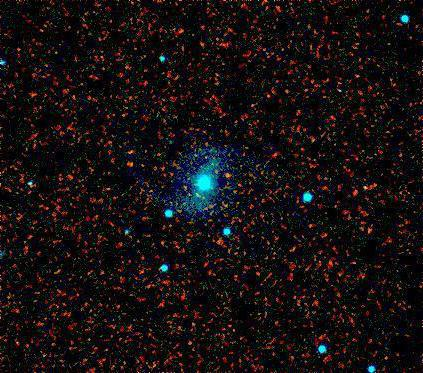star: (213, 161, 243, 191)
